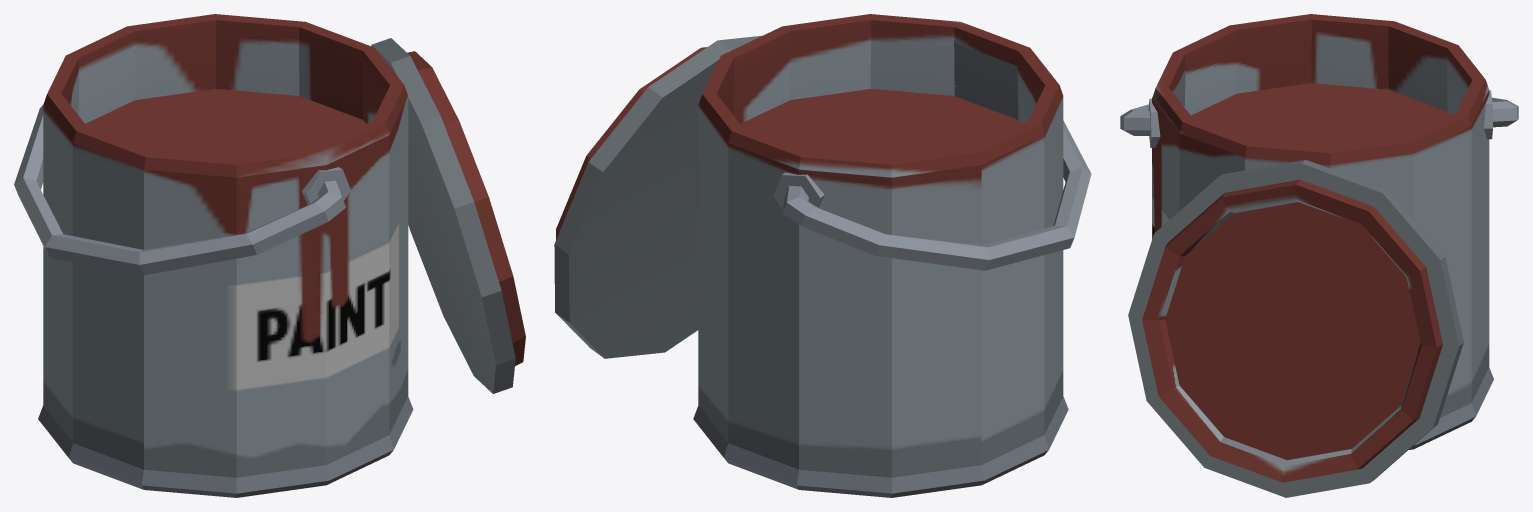
File: SM_Prop_PaintCan_01.obj
3 views of the same model, side by side, from view 1: azimuth 30°, elevation 25°; view 2: azimuth 150°, elevation 25°; view 3: azimuth 270°, elevation 25° (orthographic). The views are drawn at different scales.
Parts seen in each view (by area): view 1: SM_Prop_PaintCan_01_0; view 2: SM_Prop_PaintCan_01_0; view 3: SM_Prop_PaintCan_01_0.
Part boxes in pixels (bbox=[...]): SM_Prop_PaintCan_01_0: bbox=[14, 14, 525, 497]; SM_Prop_PaintCan_01_0: bbox=[554, 14, 1091, 497]; SM_Prop_PaintCan_01_0: bbox=[1120, 14, 1518, 497].
Size of the model in its own units: 0.4295 by 0.2949 by 0.348.
Materials: 1 (1 with a texture image).
